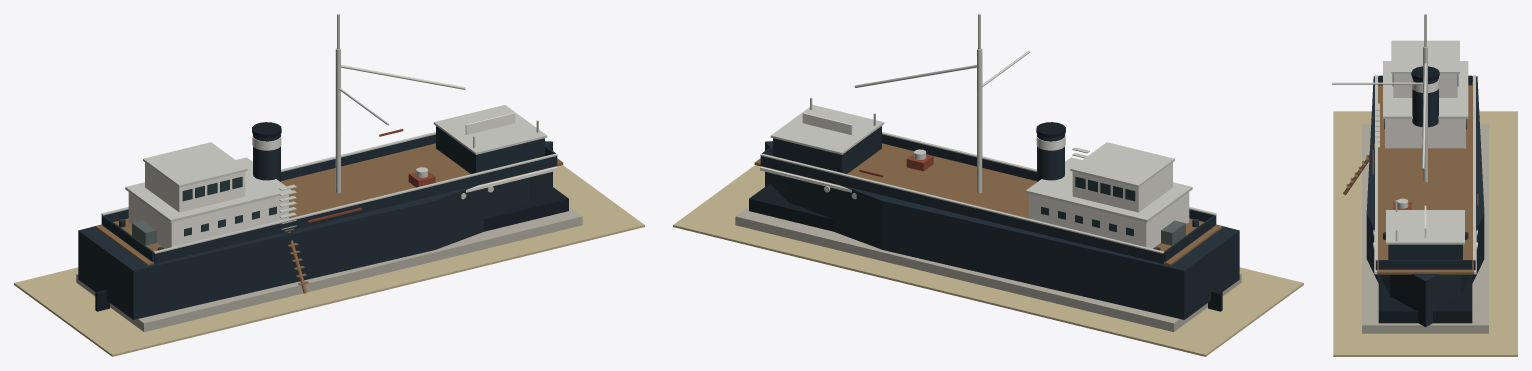
3 renders of one model, left to right at view 1: azimuth 30°, elevation 25°; view 2: azimuth 150°, elevation 25°; view 3: azimuth 270°, elevation 25°, orthographic. The views are drawn at different scales.
Bounding box in the file's own units: 2.98 × 1.34 × 0.961.
